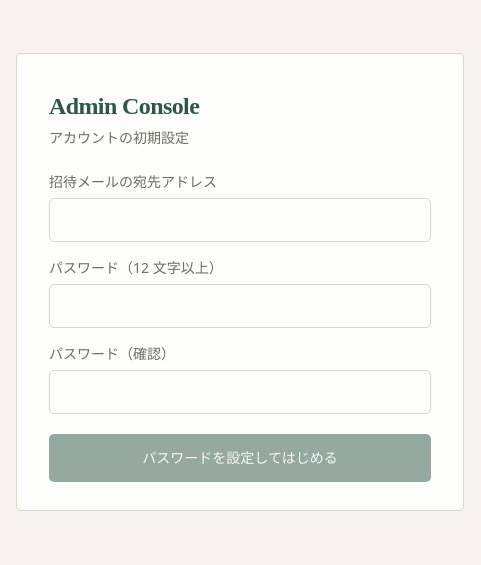
Scenario: Invite › explains invitation failure status 400
Type "staff@example.com" into the field labelled "招待メールの宛先アドレス" at (240, 220), box [49,198,431,242]
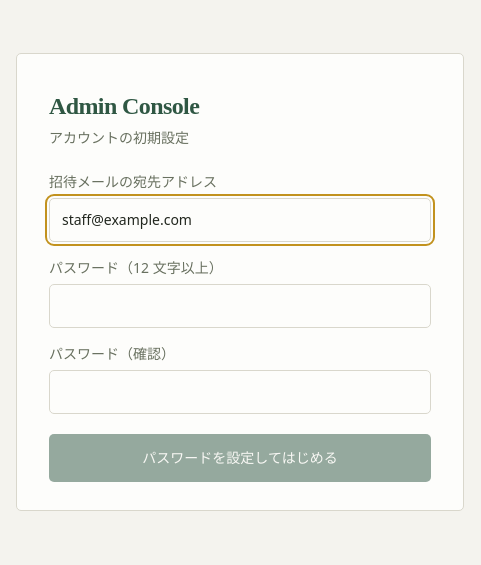
Type "long-password" into the password field labelled "パスワード（12 文字以上）" at (240, 306), box [49,284,431,328]
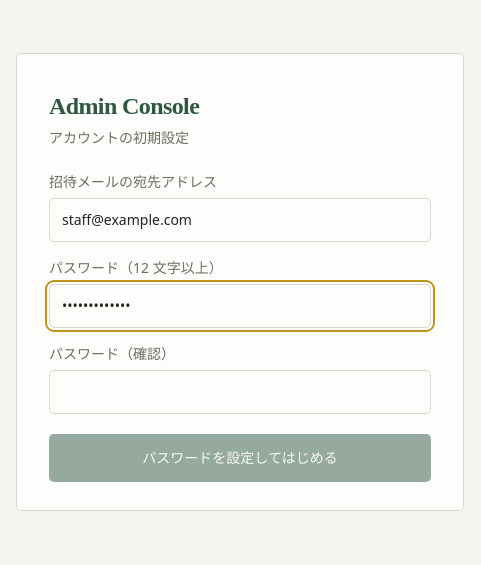
Type "long-password" into the password field labelled "パスワード（確認）" at (240, 392), box [49,370,431,414]
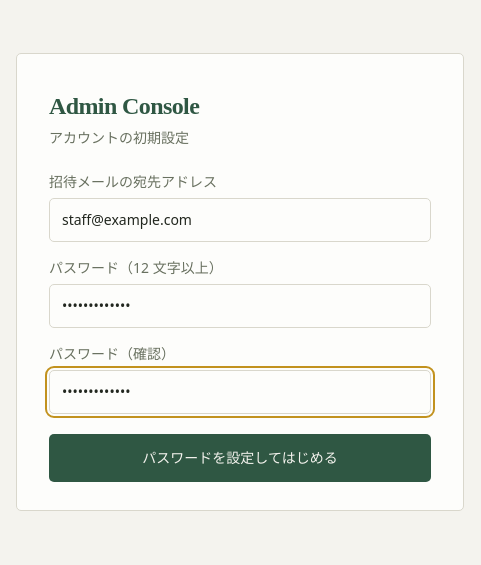
Click the button "パスワードを設定してはじめる" at (240, 458), box [49,434,431,482]
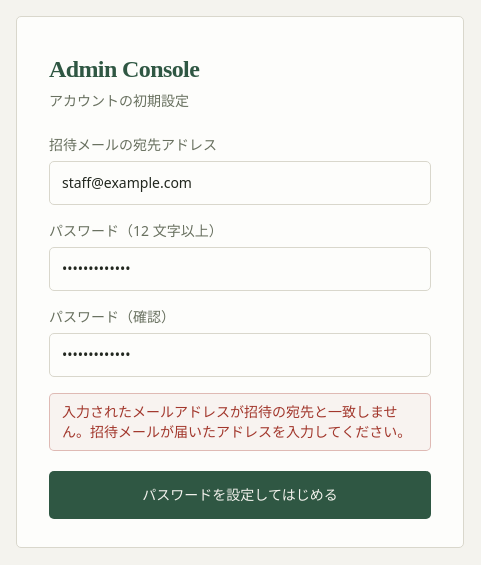
Now the message shows "入力されたメールアドレスが招待の宛先と一致しません。", box [62,402,411,441]
